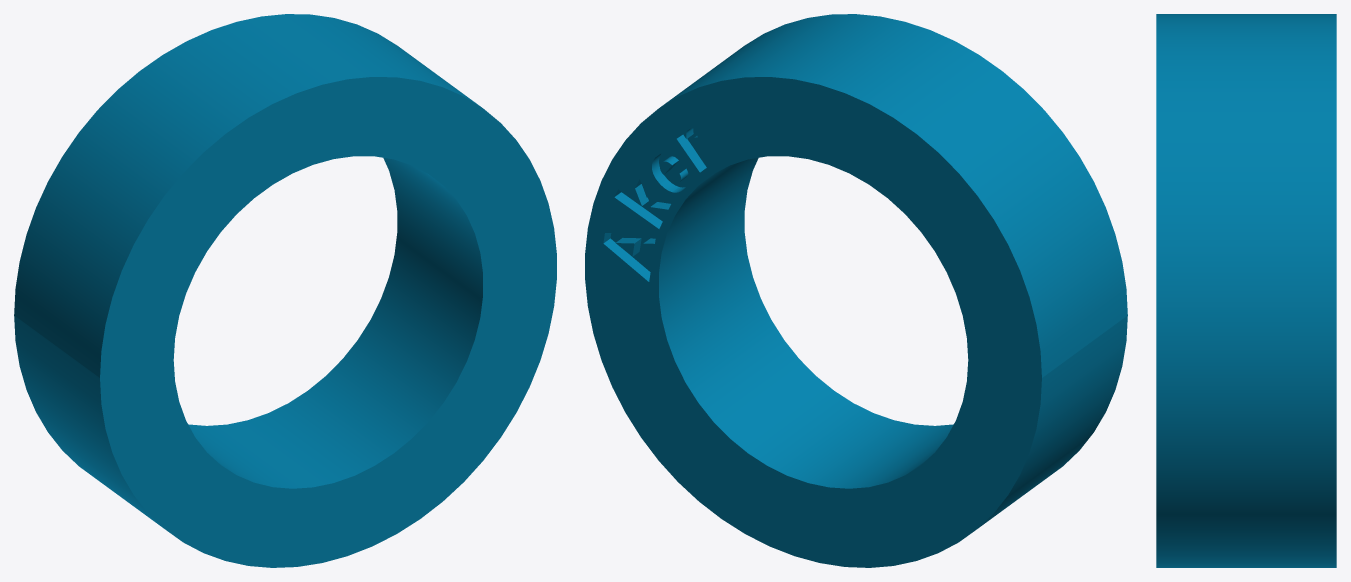
The model's file is arandela.glb.
3 views of the same model, side by side, from view 1: azimuth 30°, elevation 25°; view 2: azimuth 150°, elevation 25°; view 3: azimuth 270°, elevation 25° (orthographic). The views are drawn at different scales.
Parts seen in each view (by area): view 1: o4_IndexedFaceSet; view 2: o4_IndexedFaceSet; view 3: o4_IndexedFaceSet.
Boxes of the visible parts, x1,y1,x2,y2 form: o4_IndexedFaceSet: (14,14,556,567); o4_IndexedFaceSet: (585,14,1127,567); o4_IndexedFaceSet: (1156,14,1336,567).
Bounding box in the file's own units: 9.44 × 9.45 × 3.07.
